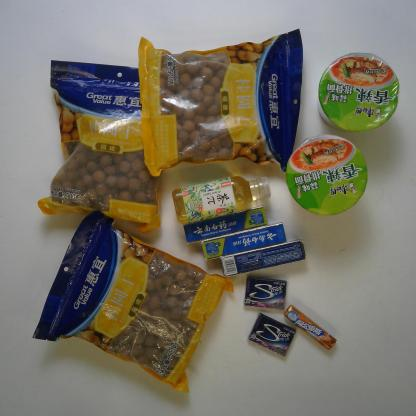Candy: (284, 304, 336, 350)
Dried Food: (32, 209, 234, 394), (38, 61, 182, 233), (138, 29, 303, 176)
Drink: (172, 177, 272, 226)
Gum: (248, 312, 296, 356), (244, 276, 288, 310)
Instant Noodles: (286, 134, 367, 216), (318, 53, 400, 132)
Personal Hygiene: (181, 205, 267, 243), (201, 222, 286, 260), (220, 240, 305, 277)
